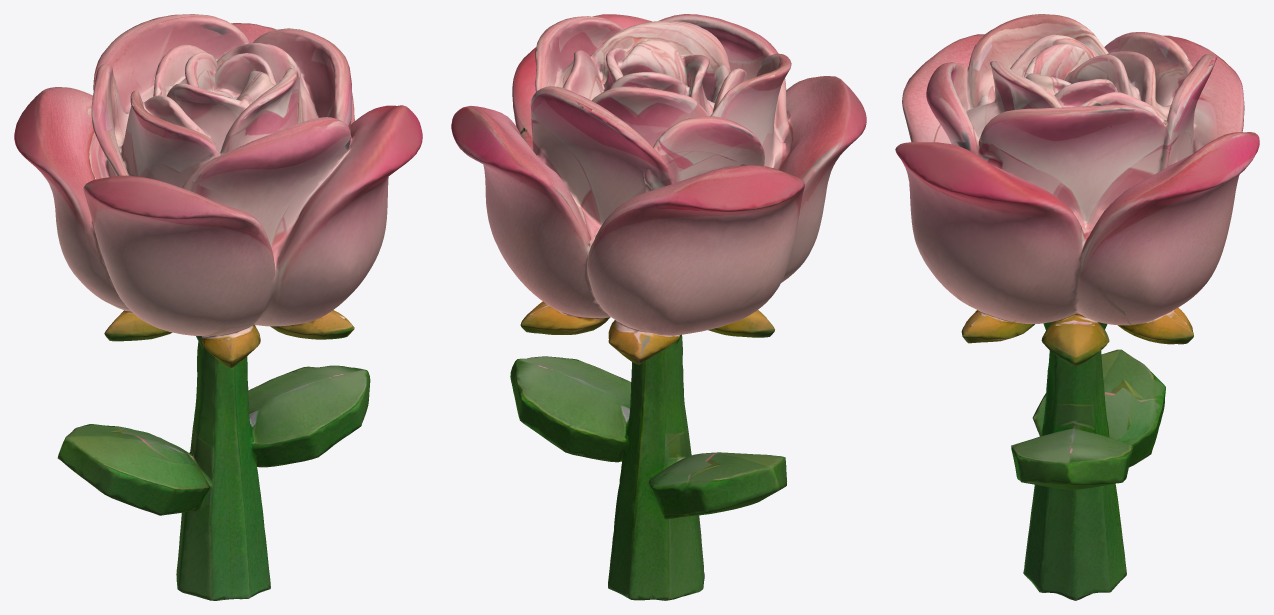
The model's file is DDP_LED장미.glb.
The picture shows the model from 3 angles, left to right: view 1: azimuth 30°, elevation 25°; view 2: azimuth 150°, elevation 25°; view 3: azimuth 270°, elevation 25°; orthographic projection. The views are drawn at different scales.
Visible parts, largest first — view 1: texture_mapping; view 2: texture_mapping; view 3: texture_mapping.
Boxes of the visible parts, left/top/right/bottom form: texture_mapping: left=14, top=14, right=422, bottom=600; texture_mapping: left=451, top=14, right=866, bottom=600; texture_mapping: left=895, top=14, right=1259, bottom=600.
Size of the model in its own units: 0.6542 by 1 by 0.6349.
Materials: 1 (1 with a texture image).
